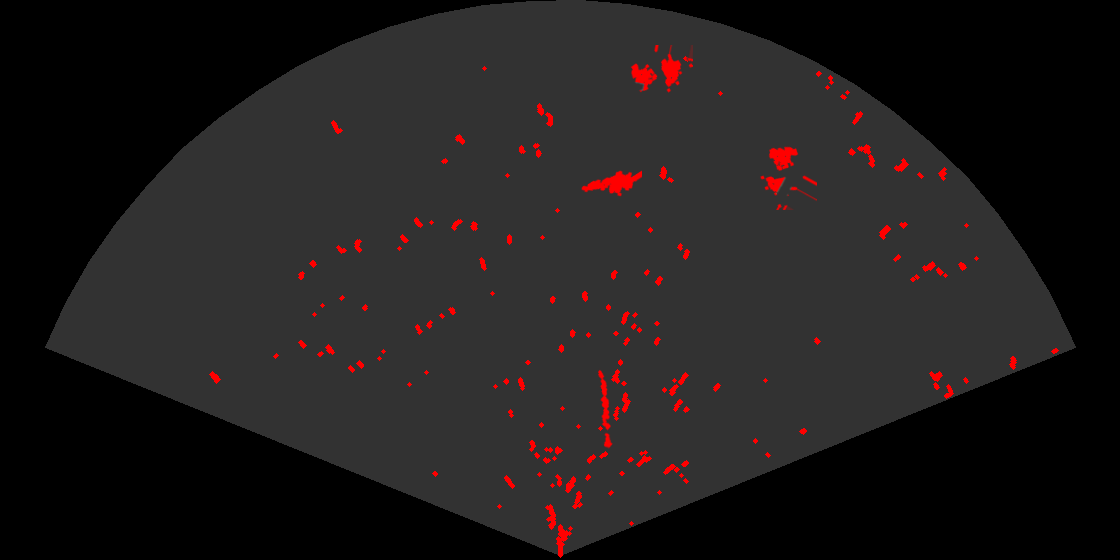cage: (759, 145, 817, 210), (629, 45, 693, 94)
chain: (597, 368, 614, 449)
frogman: (580, 169, 642, 198)
